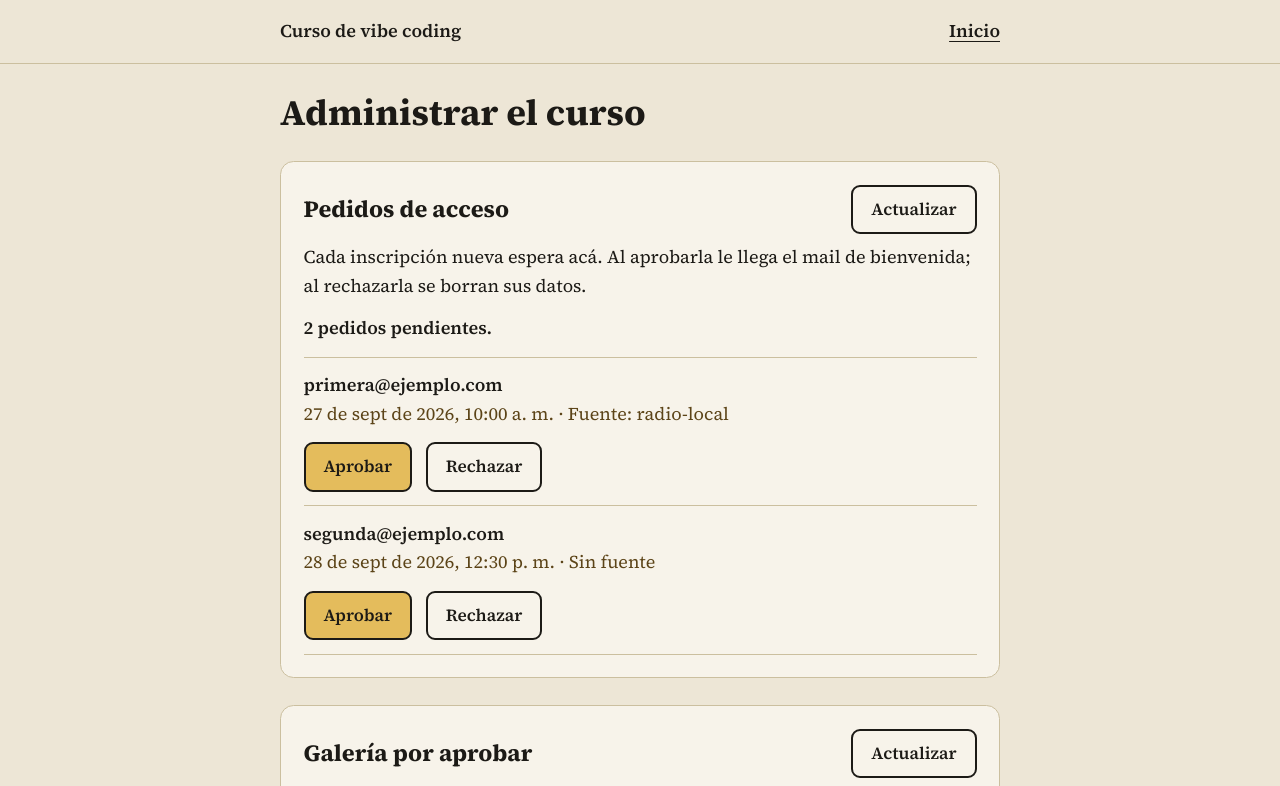
Test: Admin: pedidos de acceso › si el pedido ya se resolvió muestra el detalle y trae la lista de nuevo
Step 1. Click the button "Aprobar" below "primera@ejemplo.com" → [358, 467], box [304,442,412,492]
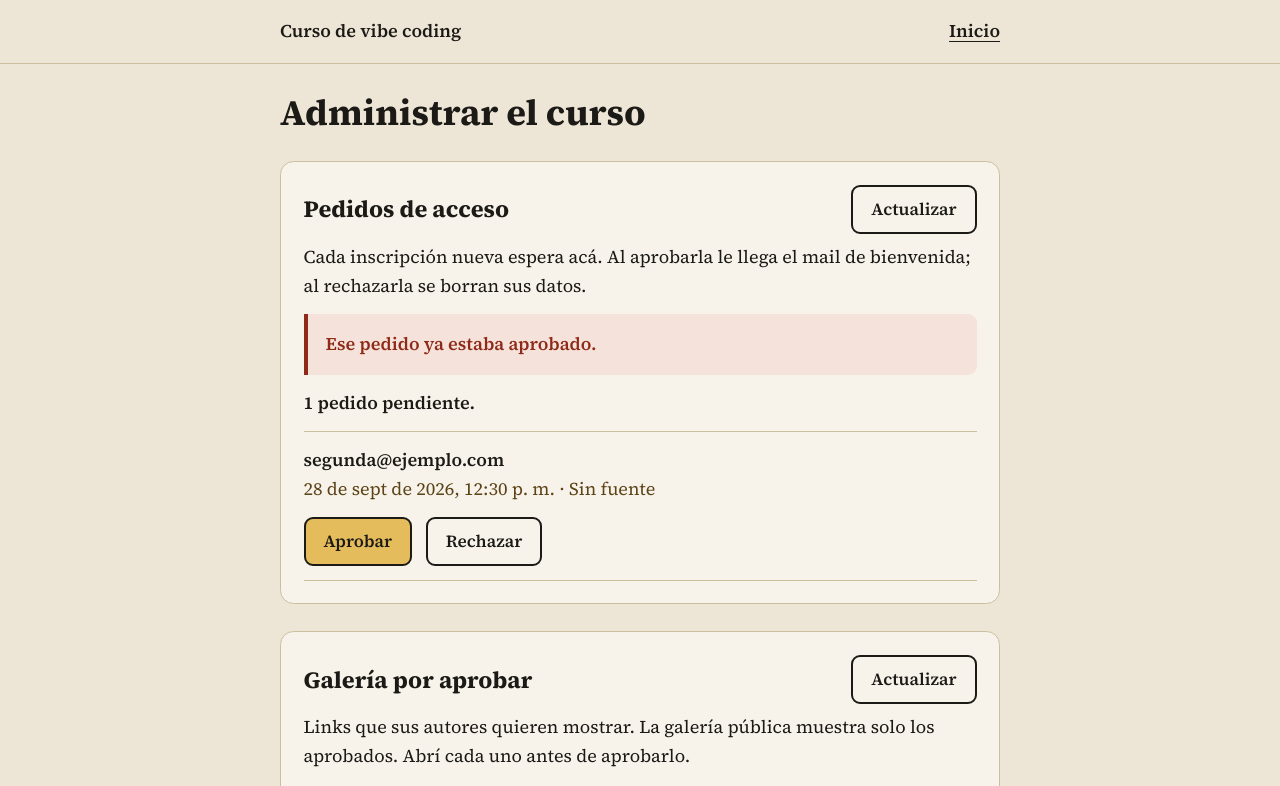
Expected: the text "Ese pedido ya estaba aprobado." is shown, [326,332,597,356]
Expected: the text "primera@ejemplo.com" is gone
